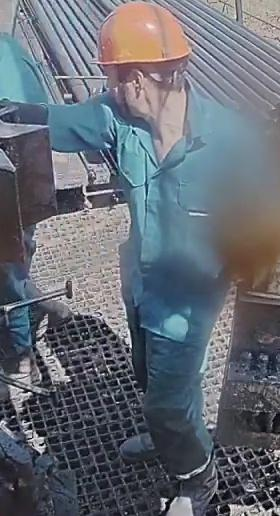helmet: (87, 2, 192, 65)
vest: (92, 81, 273, 343), (0, 31, 47, 104)
